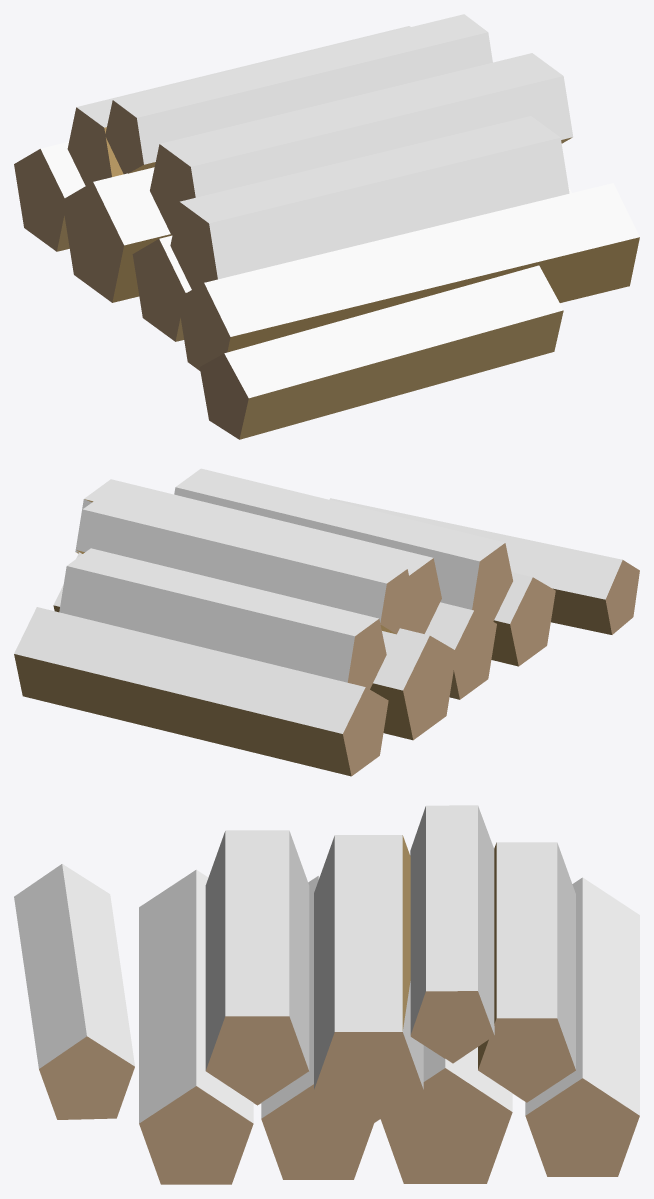
Rendered from Simple_Firewood_Pile_Snow_01.fbx.
3 views of the same model, one above another, from view 1: azimuth 30°, elevation 25°; view 2: azimuth 150°, elevation 25°; view 3: azimuth 270°, elevation 25° (orthographic). The views are drawn at different scales.
Parts seen in each view (by area): view 1: Simple_Firewood_Pile_Snow_01; view 2: Simple_Firewood_Pile_Snow_01; view 3: Simple_Firewood_Pile_Snow_01.
Boxes of the visible parts, x1=… form: Simple_Firewood_Pile_Snow_01: x1=14, y1=14, x2=639, y2=439; Simple_Firewood_Pile_Snow_01: x1=14, y1=468, x2=639, y2=776; Simple_Firewood_Pile_Snow_01: x1=14, y1=805, x2=639, y2=1184.
Bounding box in the file's own units: 67.36 × 23.41 × 72.1.
